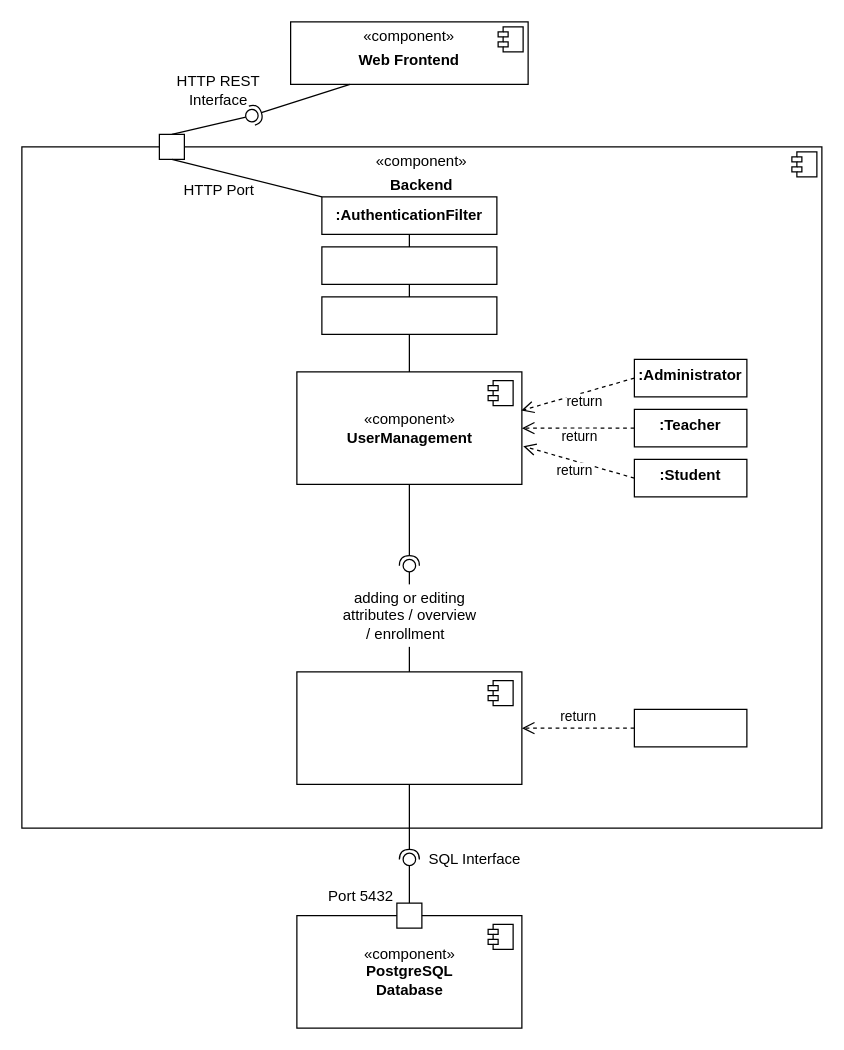
Image size: 844x1050. Some labels were removed from this diagram. The centre of each missing label's shape, as x and y in pixels:
":LoggingFilter" goes at point 409,265.
":MediaTypeFilter" goes at point 409,315.
":Module" goes at point 690,727.
"«component» ModuleManagement" goes at point 409,727.
